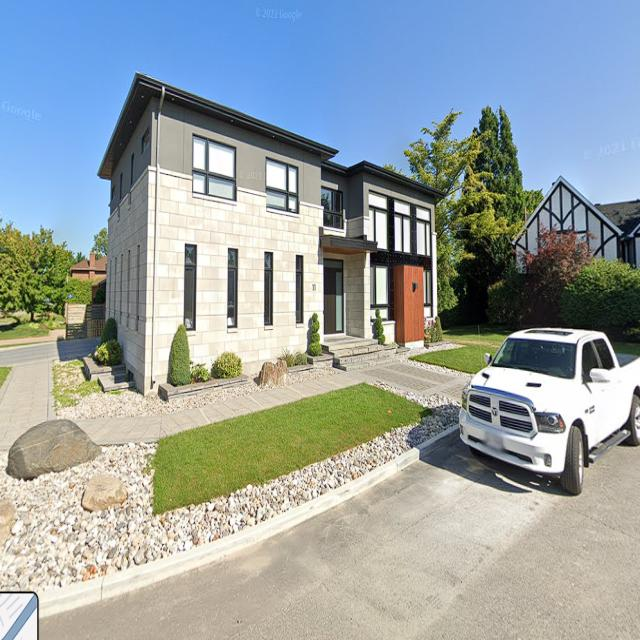Door: (323, 258, 343, 335)
curb: (42, 382, 535, 612)
obstacle: (459, 325, 639, 495)
walkways: (324, 337, 470, 402)
